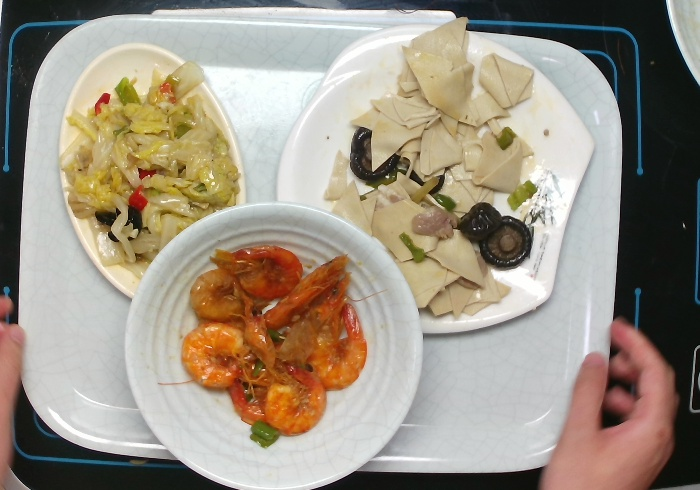JYsf-Mian_Pan: (272, 20, 595, 343)
JYsf-Tuo_Yuan_Wan: (61, 38, 254, 308)
JYsf-Xiao_Tang_Wan: (116, 202, 427, 490)
